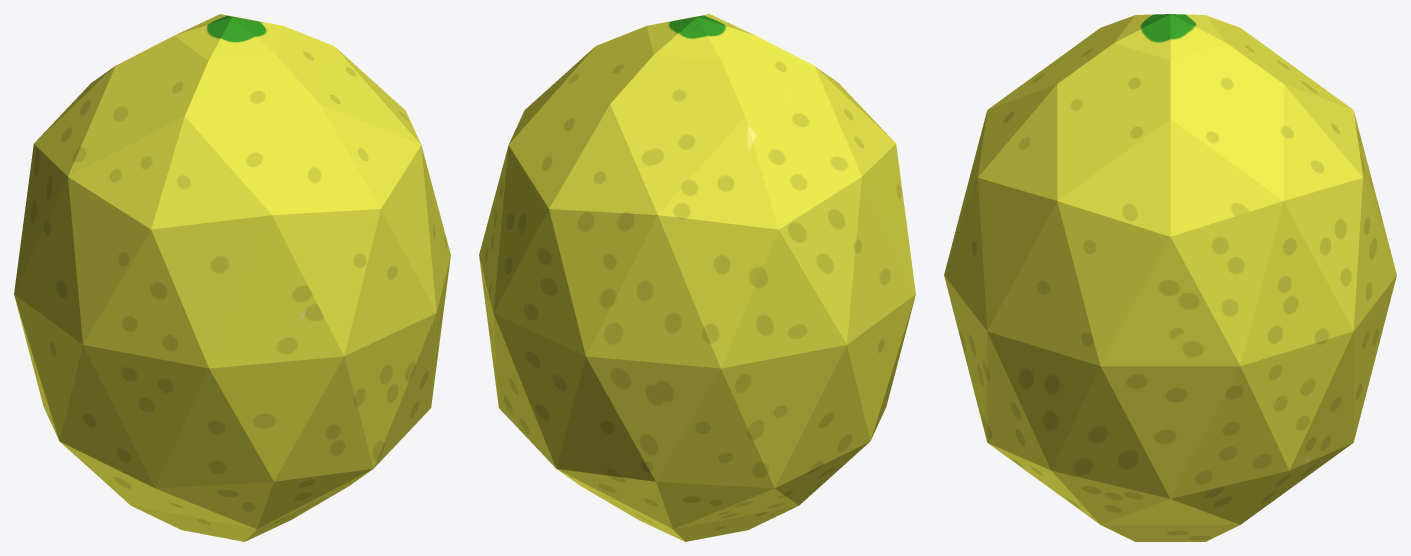
Rendered from Lemon.fbx.
The picture shows the model from 3 angles, left to right: view 1: azimuth 30°, elevation 25°; view 2: azimuth 150°, elevation 25°; view 3: azimuth 270°, elevation 25°; orthographic projection.
Parts seen in each view (by area): view 1: FullLemon; view 2: FullLemon; view 3: FullLemon.
Part boxes in pixels (x1,y1,x2,y2): FullLemon: (14, 14, 450, 541); FullLemon: (479, 14, 915, 541); FullLemon: (944, 14, 1396, 541).
Bounding box in the file's own units: 190 × 255 × 200.
Materials: 1 (1 with a texture image).
